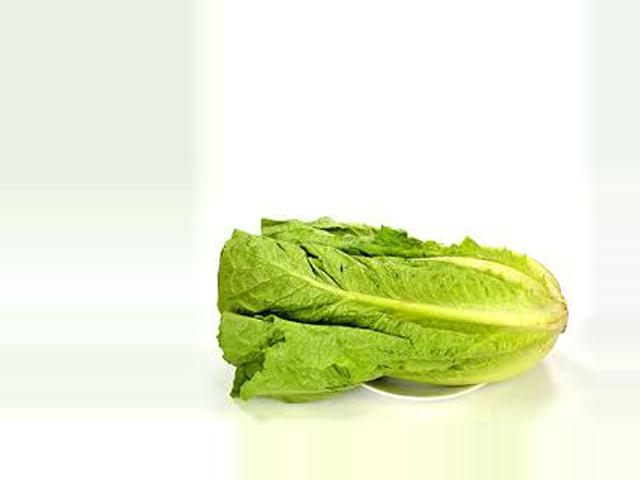lettuce: (215, 210, 570, 404)
